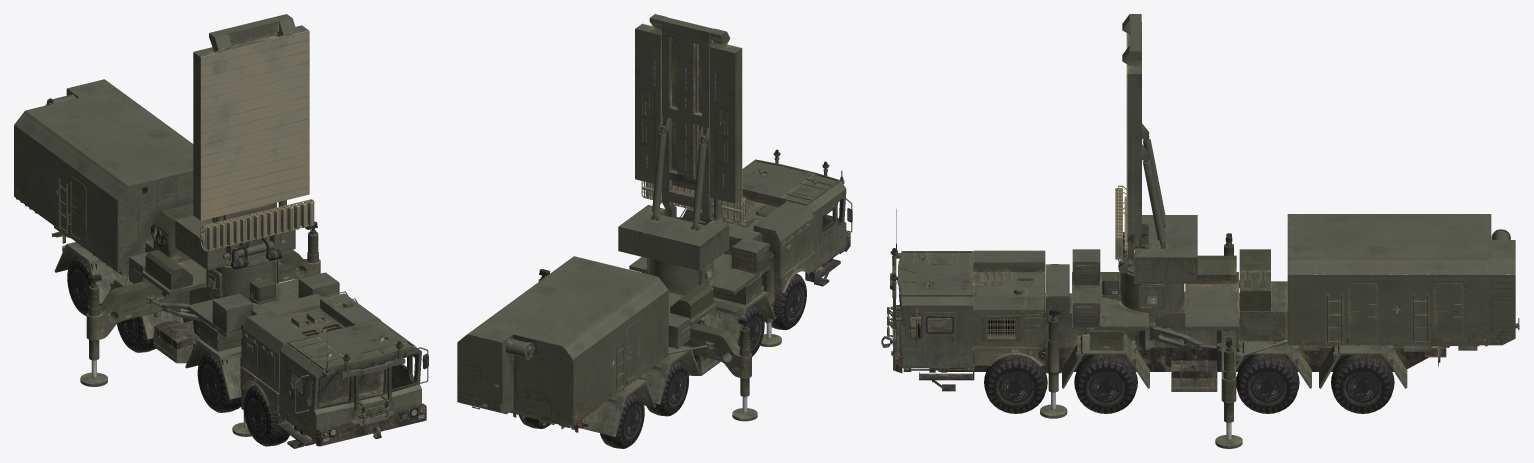
The model's file is aa-radar.glb.
3 renders of one model, left to right at view 1: azimuth 30°, elevation 25°; view 2: azimuth 150°, elevation 25°; view 3: azimuth 270°, elevation 25°, orthographic. The views are drawn at different scales.
Parts seen in each view (by area): view 1: SM_Radar_96L6_01_01_Radar_A.001_0, SM_Radar_96L6_01_01_Radar_A.002_1; view 2: SM_Radar_96L6_01_01_Radar_A.001_0, SM_Radar_96L6_01_01_Radar_A.002_1; view 3: SM_Radar_96L6_01_01_Radar_A.001_0, SM_Radar_96L6_01_01_Radar_A.002_1.
Part boxes in pixels (x1,y1,x2,y2): SM_Radar_96L6_01_01_Radar_A.001_0: [14, 79, 428, 448]; SM_Radar_96L6_01_01_Radar_A.002_1: [175, 14, 314, 270]; SM_Radar_96L6_01_01_Radar_A.001_0: [457, 149, 852, 448]; SM_Radar_96L6_01_01_Radar_A.002_1: [618, 14, 746, 270]; SM_Radar_96L6_01_01_Radar_A.001_0: [881, 209, 1519, 448]; SM_Radar_96L6_01_01_Radar_A.002_1: [1115, 14, 1197, 283].
Bounding box in the file's own units: 7.96 × 11.37 × 18.39.
1 material, 1 textured.
